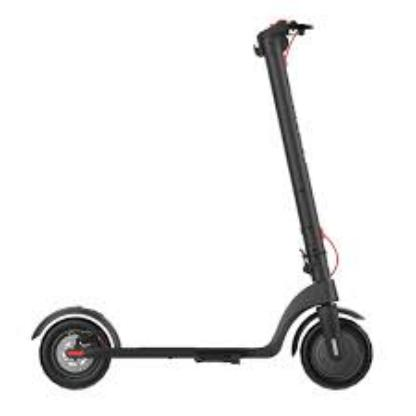bike: (7, 19, 375, 394)
car: (25, 17, 374, 394)
